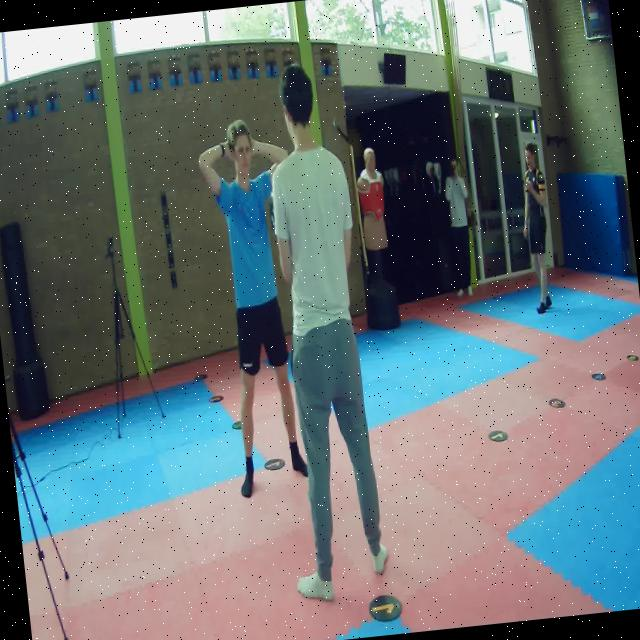paddle: (269, 191, 275, 236)
